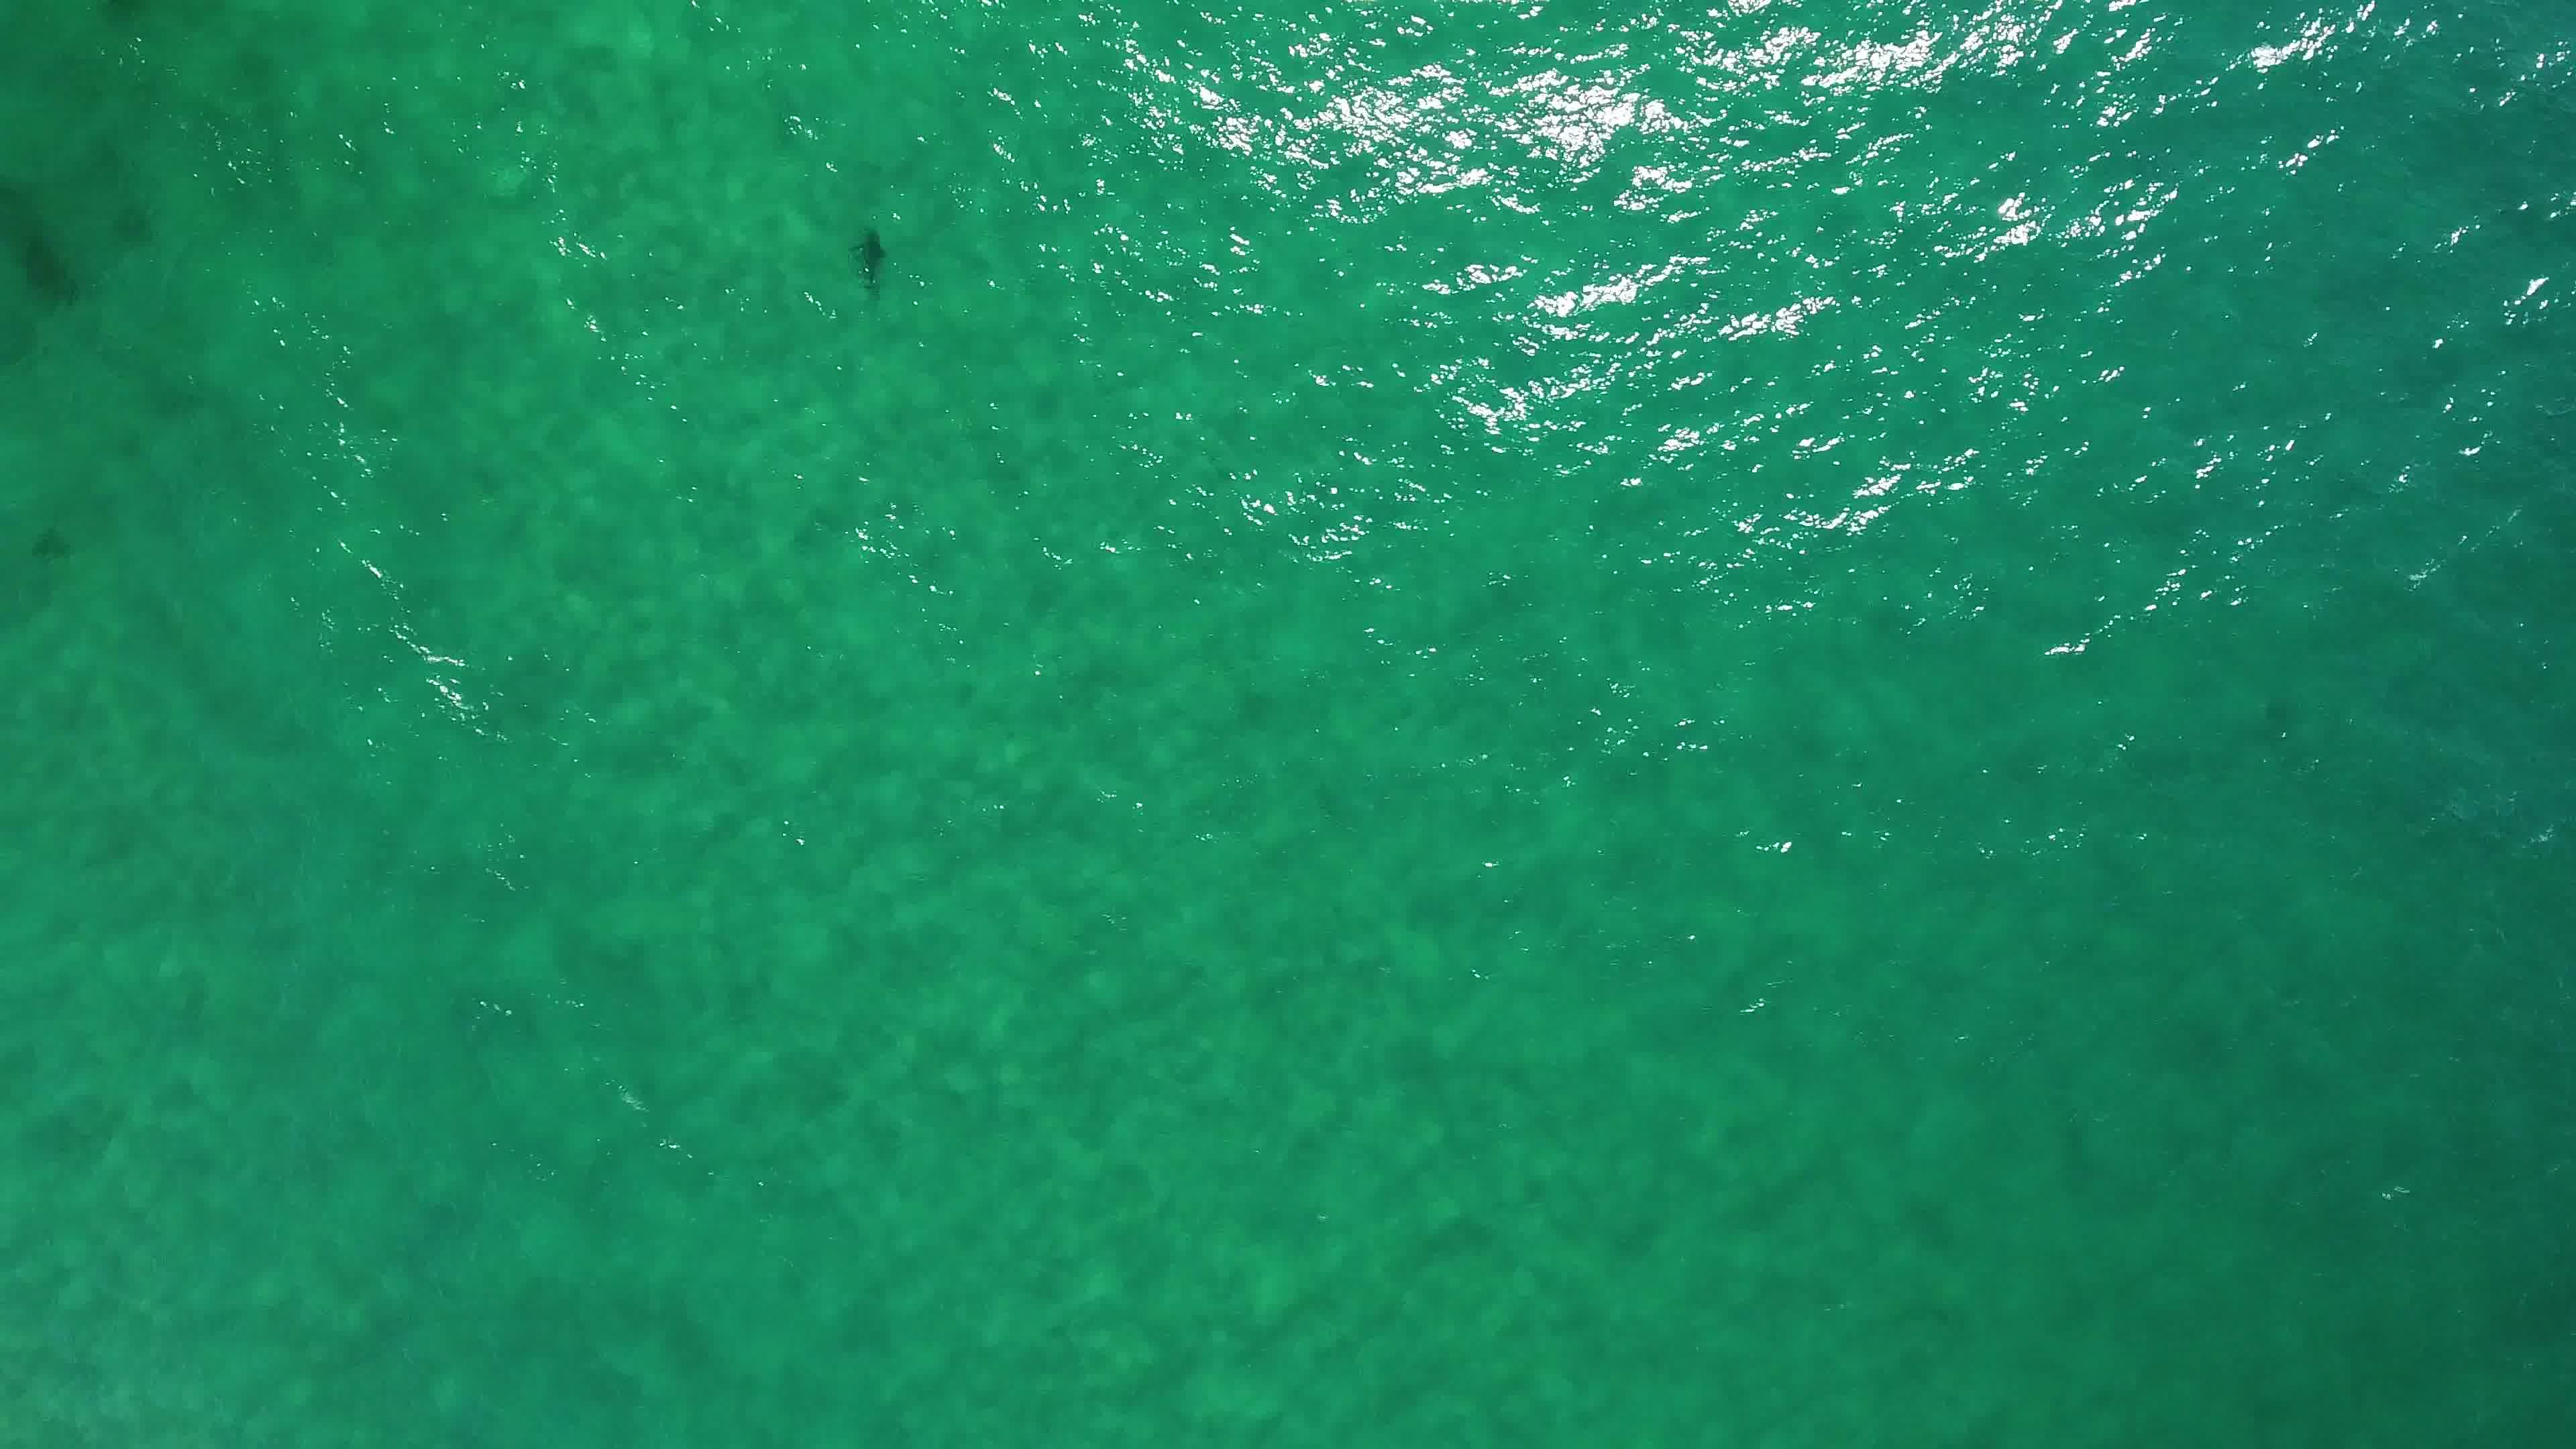shark: (844, 216, 897, 292)
